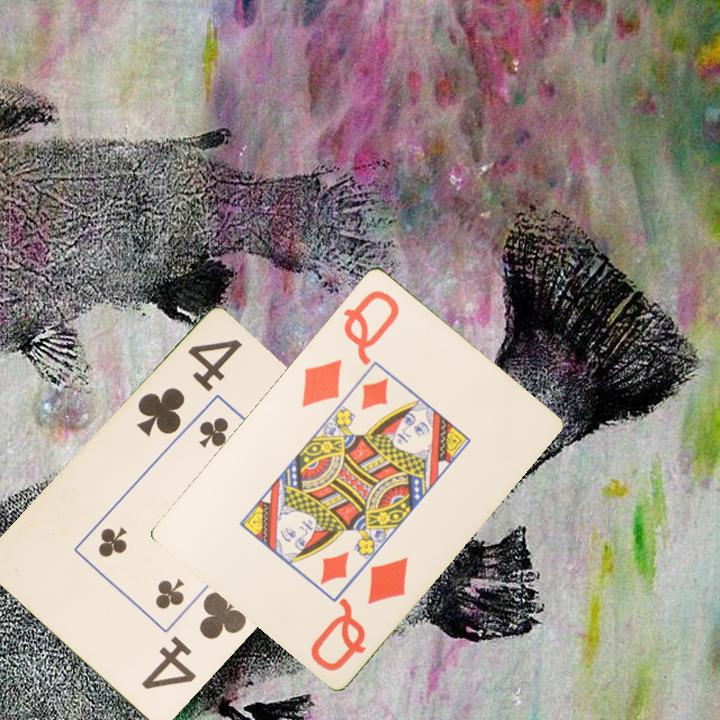4c: (137, 586, 251, 693), (132, 335, 246, 441)
Qd: (298, 285, 403, 410), (306, 552, 412, 674)
